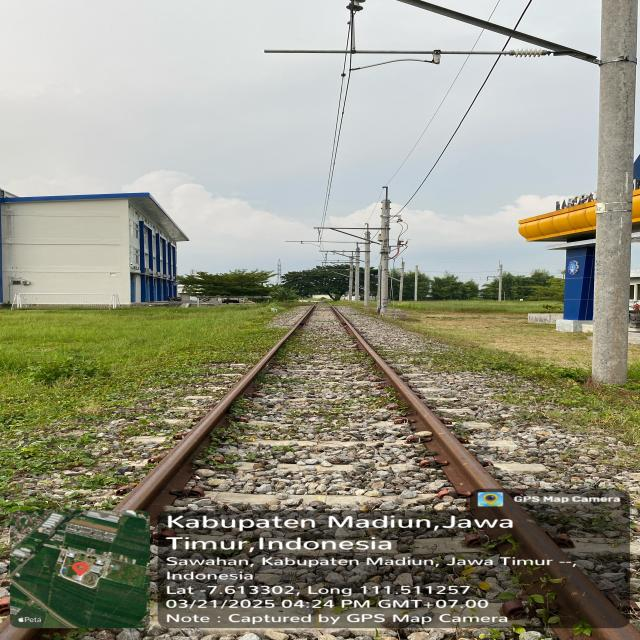rail-detection: (330, 307, 640, 640), (115, 306, 315, 524)
